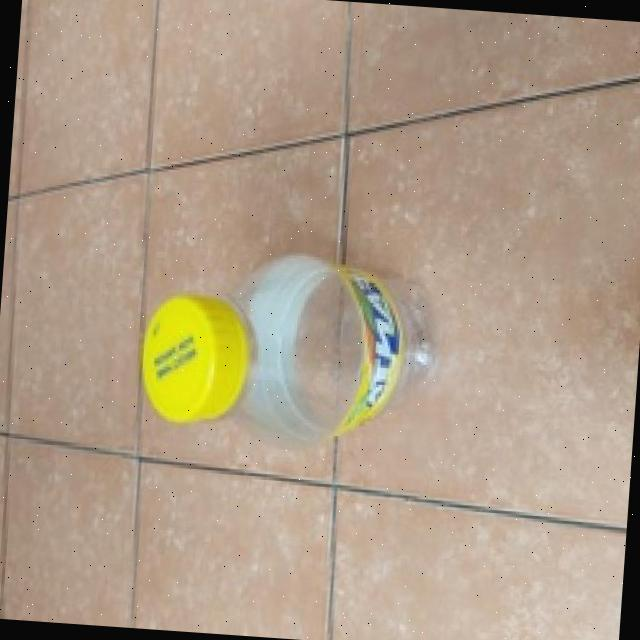bottle: (106, 192, 500, 510)
cap: (133, 279, 254, 430)
label: (263, 252, 407, 454)
